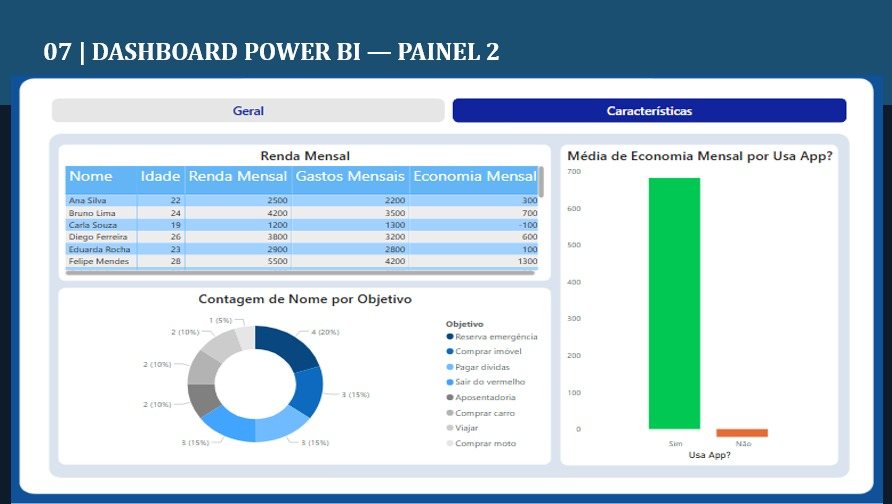

The dashboard page shown, as its layout file describes it:
{"tool":"powerbi","page":{"name":"Características","canvas":[1280,720],"ordinal":1},"visuals":[{"type":"clusteredColumnChart","fields":{"Category":["Pasta33.Usa App?"],"Y":["Avg(Pasta33.Economia Mensal)"]},"box":[798.5,120.9,394.5,531.3],"z":0},{"type":"donutChart","fields":{"Y":["CountNonNull(Pasta33.Nome)"],"Category":["Pasta33.Objetivo"]},"box":[85.9,359.5,699.9,292.7],"z":1000},{"type":"tableEx","title":"Renda Mensal","fields":{"Values":["Pasta33.Nome","Pasta33.Idade","Pasta33.Renda Mensal","Pasta33. Gastos Mensais ","Pasta33.Economia Mensal"]},"box":[85.9,120.9,699.9,225.9],"z":2000},{"type":"pageNavigator","box":[74.8,44.5,1130.9,41.4],"z":2001}]}

Visuals, with their boxes in screenshot pixels (x1, y1, x2, y2), scaled from the page's 1280x720 canvas onto the 892x504 screenshot:
clusteredColumnChart - Pasta33.Usa App? x Avg(Pasta33.Economia Mensal): left=556, top=85, right=831, bottom=457
donutChart - CountNonNull(Pasta33.Nome) x Pasta33.Objetivo: left=60, top=252, right=548, bottom=457
"Renda Mensal" tableEx: left=60, top=85, right=548, bottom=243
pageNavigator: left=52, top=31, right=840, bottom=60
